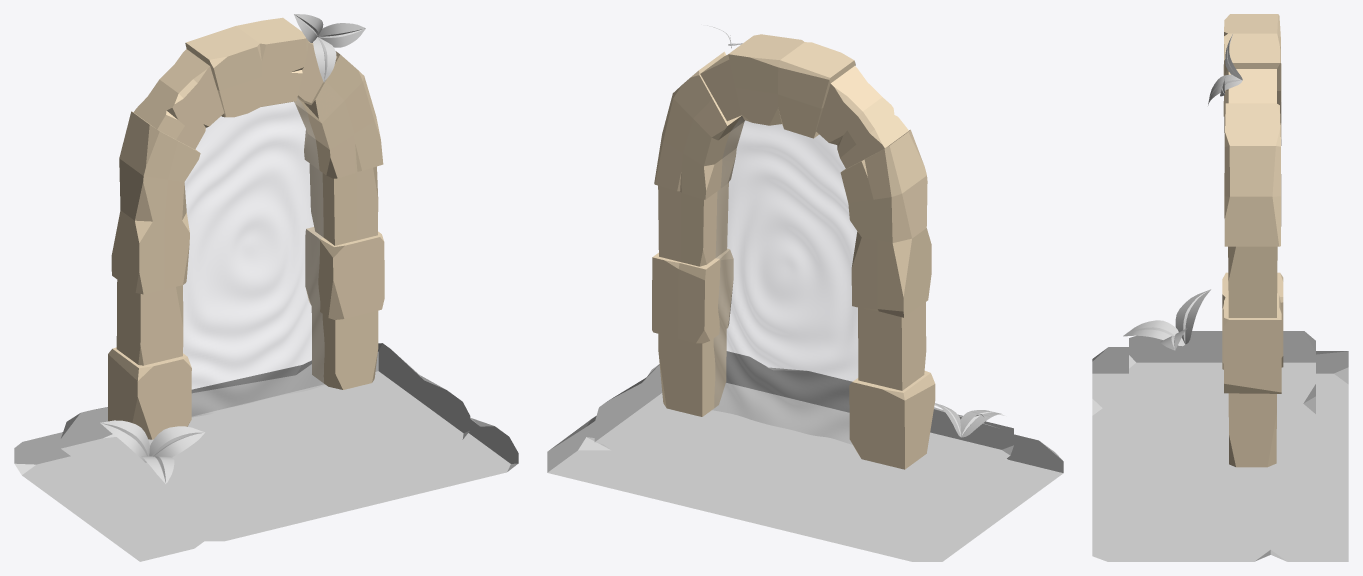
The model's file is Portal.gltf.
3 renders of one model, left to right at view 1: azimuth 30°, elevation 25°; view 2: azimuth 150°, elevation 25°; view 3: azimuth 270°, elevation 25°, orthographic. The views are drawn at different scales.
Parts seen in each view (by area): view 1: Portal Arch, Portal, Step1, Step2, Plant.001, Plant.002; view 2: Portal Arch, Portal, Step1, Step2, Plant.001; view 3: Step1, Portal Arch, Step2, Plant.001, Plant.002.
Part boxes in pixels (x1,y1,x2,y2): Portal Arch: (108, 17, 384, 439); Portal: (183, 98, 324, 416); Step1: (60, 343, 470, 512); Step2: (14, 418, 518, 561); Plant.001: (100, 420, 204, 484); Plant.002: (294, 14, 365, 82); Portal Arch: (652, 34, 935, 469); Portal: (713, 116, 857, 444); Step1: (594, 351, 1013, 521); Step2: (547, 364, 1063, 561); Plant.001: (934, 403, 1004, 437); Step1: (1129, 331, 1315, 520); Portal Arch: (1222, 14, 1283, 467); Step2: (1092, 347, 1348, 561); Plant.001: (1123, 289, 1211, 350); Plant.002: (1208, 34, 1242, 105).
Bounding box in the file's own units: 7.42 × 8.29 × 4.26.
